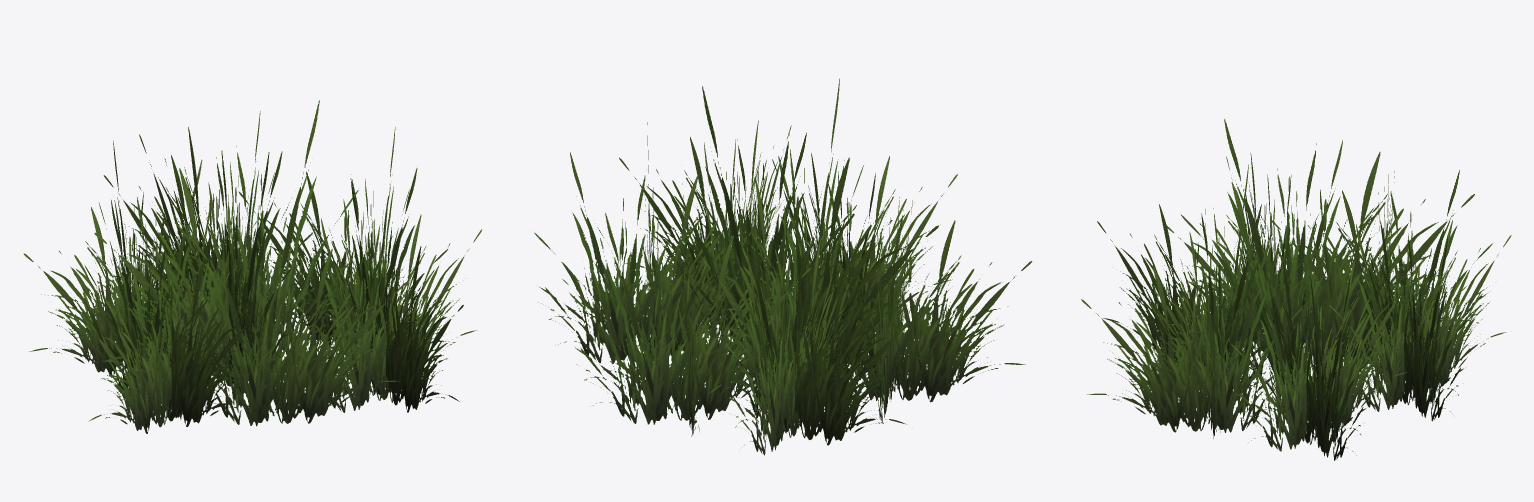
Rendered from grass tropical1.FBX.
The picture shows the model from 3 angles, left to right: view 1: azimuth 30°, elevation 25°; view 2: azimuth 150°, elevation 25°; view 3: azimuth 270°, elevation 25°; orthographic projection. The views are drawn at different scales.
Visible parts, largest first — view 1: grass tropical1; view 2: grass tropical1; view 3: grass tropical1.
Part boxes in pixels (x1,y1,x2,y2): grass tropical1: (23,100,482,433); grass tropical1: (534,78,1032,455); grass tropical1: (1081,119,1511,460).
Bounding box in the file's own units: 12.88 × 9.13 × 12.4.
